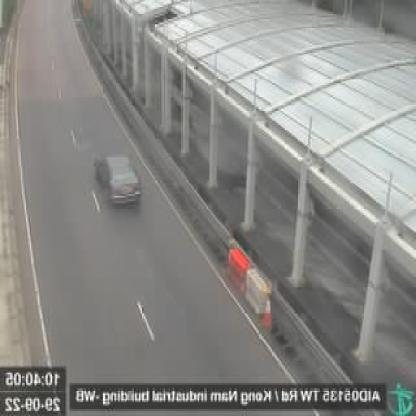Car: (91, 142, 149, 217)
